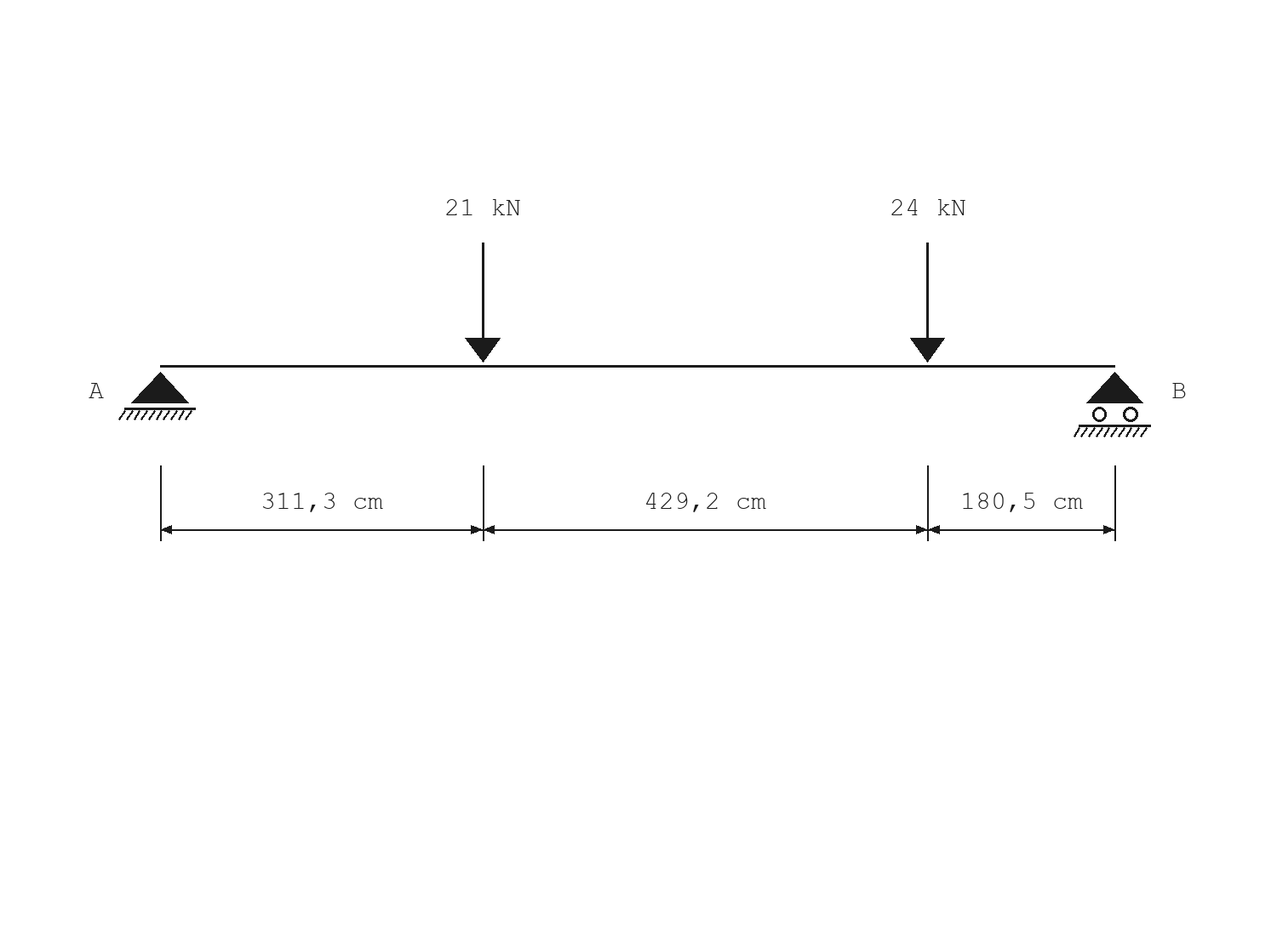pin_support: (118, 372, 196, 420)
point_load: (465, 243, 501, 362), (910, 243, 945, 362)
roller_support: (1074, 372, 1151, 437)
